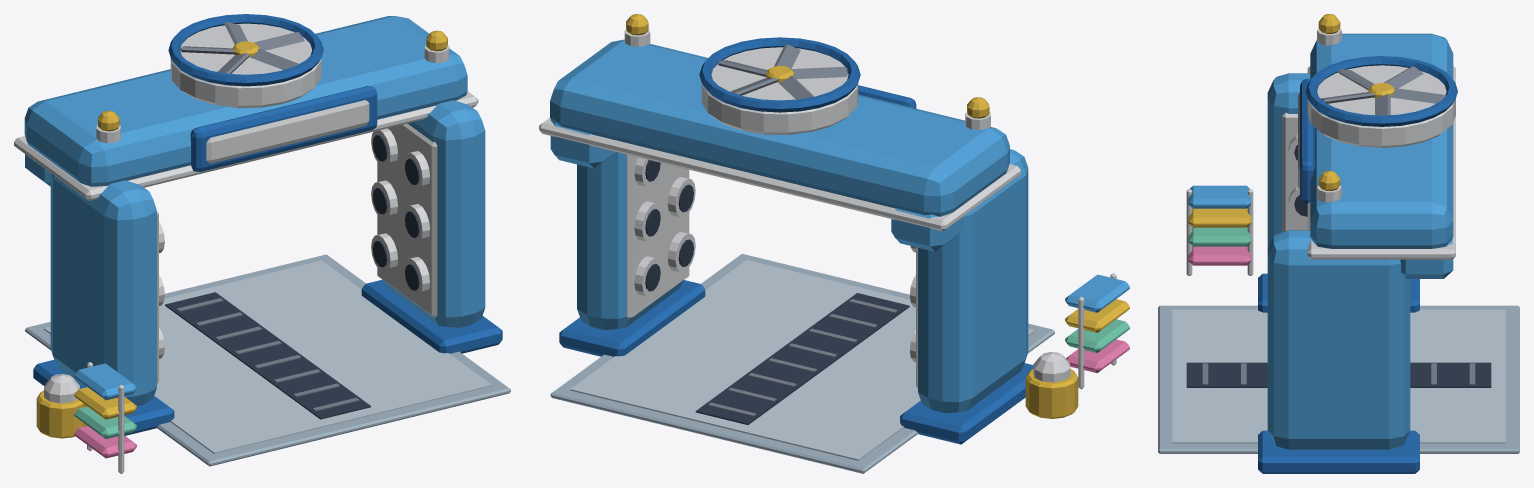
File: dryer.glb
3 views of the same model, side by side, from view 1: azimuth 30°, elevation 25°; view 2: azimuth 150°, elevation 25°; view 3: azimuth 270°, elevation 25° (orthographic). The views are drawn at different scales.
Visible parts, largest first — view 1: dryer_body, dryer_fan; view 2: dryer_body, dryer_fan; view 3: dryer_body, dryer_fan.
Boxes of the visible parts, x1,y1,x2,y2 form: dryer_body: (14, 14, 510, 473); dryer_fan: (180, 22, 304, 73); dryer_body: (539, 14, 1129, 473); dryer_fan: (717, 44, 848, 99); dryer_body: (1158, 14, 1519, 473); dryer_fan: (1321, 66, 1444, 115).
Size of the model in its own units: 5.24 by 3.42 by 3.8.
